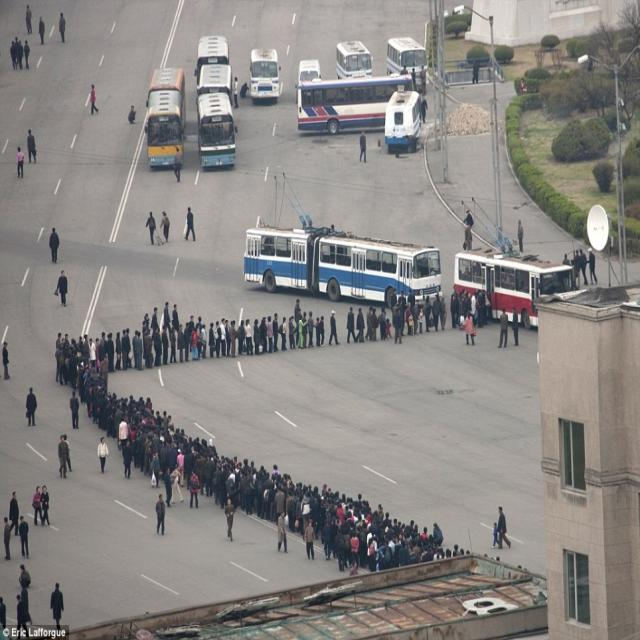body: (126, 422, 177, 485), (243, 456, 282, 527), (81, 374, 118, 440), (54, 329, 82, 404), (328, 485, 374, 530), (393, 517, 430, 569), (214, 454, 243, 510), (373, 502, 394, 575), (313, 529, 350, 565), (195, 434, 215, 498), (142, 324, 166, 371), (118, 394, 156, 423), (182, 426, 196, 493), (450, 284, 470, 326), (356, 530, 374, 576), (492, 266, 526, 290), (285, 496, 303, 540), (200, 122, 232, 146), (495, 505, 512, 550), (98, 330, 115, 374), (297, 480, 329, 503), (50, 582, 64, 633), (169, 462, 186, 504), (15, 594, 30, 640), (7, 489, 21, 538), (150, 122, 179, 145), (31, 486, 46, 528), (19, 581, 33, 626), (24, 385, 38, 428), (187, 466, 201, 508), (455, 262, 483, 283), (57, 434, 70, 479), (276, 509, 289, 554), (47, 224, 61, 265), (223, 498, 236, 542), (144, 208, 158, 248), (309, 502, 329, 530), (120, 326, 132, 372), (299, 491, 312, 533), (81, 332, 94, 374), (18, 515, 30, 560), (421, 294, 435, 332), (345, 305, 359, 343), (154, 492, 166, 536), (96, 434, 109, 474), (303, 520, 316, 560), (183, 205, 197, 242), (122, 438, 134, 480), (39, 484, 51, 526), (496, 306, 508, 348), (429, 533, 445, 564), (56, 268, 68, 309), (141, 312, 151, 361), (586, 246, 598, 285), (391, 305, 403, 344), (328, 310, 341, 346), (445, 542, 471, 560), (258, 315, 270, 354), (69, 388, 80, 430), (462, 221, 474, 259), (306, 309, 318, 347), (149, 306, 161, 344), (462, 311, 475, 346), (133, 330, 144, 371), (281, 470, 297, 498), (63, 433, 74, 473), (149, 449, 160, 489), (175, 448, 186, 488), (26, 128, 38, 164), (376, 305, 388, 341), (354, 306, 366, 342), (243, 317, 254, 356), (159, 208, 171, 243), (274, 483, 286, 518), (578, 248, 589, 286), (349, 530, 359, 571), (118, 416, 130, 450), (480, 289, 491, 326), (17, 562, 31, 591), (475, 289, 485, 329), (176, 323, 186, 363), (173, 145, 183, 184), (294, 308, 304, 347), (228, 319, 238, 358), (1, 339, 10, 382), (297, 314, 308, 349), (431, 293, 441, 331), (236, 319, 246, 357), (163, 466, 172, 508), (218, 316, 227, 358), (163, 300, 172, 342), (411, 298, 421, 335), (278, 316, 288, 353), (114, 331, 123, 372), (3, 516, 11, 562), (396, 296, 405, 336), (364, 305, 374, 341), (287, 314, 297, 350), (253, 318, 262, 357), (169, 325, 178, 364), (230, 75, 240, 110), (189, 326, 199, 361), (369, 307, 379, 341), (510, 305, 518, 347), (271, 311, 279, 353), (195, 315, 203, 356), (183, 322, 191, 363), (161, 324, 169, 365), (131, 328, 139, 369), (90, 84, 100, 116), (294, 297, 302, 337), (266, 314, 274, 354), (224, 318, 232, 358), (213, 319, 221, 359), (409, 66, 418, 100), (187, 314, 195, 352), (432, 523, 444, 548), (155, 408, 175, 423), (516, 217, 524, 254), (562, 252, 570, 289), (208, 322, 216, 359), (9, 40, 18, 72), (404, 300, 412, 336), (461, 207, 474, 229), (450, 293, 458, 328), (199, 323, 207, 358), (195, 323, 203, 358), (171, 303, 180, 334), (126, 102, 138, 125), (25, 2, 33, 36), (58, 10, 66, 44), (16, 146, 24, 180), (359, 130, 367, 164), (419, 64, 427, 98), (439, 297, 447, 331), (470, 59, 480, 86), (88, 338, 97, 368), (301, 311, 308, 349), (407, 288, 416, 317), (176, 422, 183, 459), (22, 38, 30, 70), (419, 96, 428, 124), (95, 337, 102, 373), (473, 287, 479, 329), (16, 40, 24, 70), (0, 595, 7, 629), (481, 551, 500, 563), (470, 292, 477, 324), (586, 56, 594, 83), (390, 287, 398, 314), (13, 36, 20, 66), (38, 15, 45, 45), (239, 82, 250, 100), (407, 312, 415, 336), (319, 316, 325, 348), (384, 317, 392, 340), (492, 522, 499, 548), (574, 248, 580, 278), (518, 77, 527, 96), (418, 307, 424, 334), (349, 560, 359, 576), (516, 562, 529, 574), (397, 290, 406, 307), (400, 64, 408, 76), (337, 564, 349, 572), (314, 316, 320, 328), (232, 319, 236, 331), (215, 443, 219, 455)
